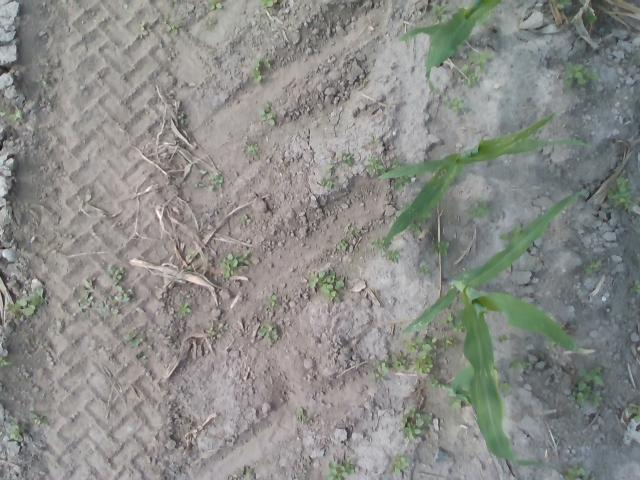Maize: (398, 188, 588, 471), (371, 111, 594, 239), (398, 0, 506, 95)
Weeds: (570, 366, 604, 407), (406, 336, 437, 376), (308, 270, 345, 303), (7, 287, 47, 317), (398, 406, 432, 440), (606, 176, 640, 210), (562, 60, 600, 88), (220, 253, 250, 278), (440, 308, 468, 333), (323, 460, 354, 480), (407, 212, 432, 236), (365, 155, 387, 180), (250, 58, 271, 83), (562, 465, 596, 480), (258, 322, 280, 344), (258, 102, 277, 126), (499, 224, 523, 243), (468, 197, 489, 218), (469, 50, 491, 70), (389, 453, 410, 473), (460, 64, 479, 86), (444, 96, 464, 115), (92, 300, 114, 316), (78, 278, 94, 300), (163, 14, 180, 34), (105, 262, 122, 282), (426, 376, 450, 390), (381, 248, 402, 264), (124, 332, 145, 348), (112, 284, 130, 302), (431, 240, 451, 256), (626, 402, 640, 424), (9, 422, 26, 440), (431, 3, 448, 21), (440, 335, 459, 351), (508, 358, 532, 370), (394, 174, 412, 190), (207, 172, 223, 190), (0, 110, 23, 122), (584, 259, 602, 274), (392, 352, 406, 371), (29, 412, 49, 425), (136, 21, 150, 38), (395, 202, 411, 216), (387, 156, 403, 170), (178, 301, 192, 317), (549, 0, 573, 9), (584, 10, 598, 25), (235, 468, 255, 478), (370, 236, 386, 248), (322, 177, 336, 190), (265, 294, 278, 308), (371, 370, 385, 383), (446, 398, 462, 409), (629, 278, 640, 294), (374, 360, 388, 372), (247, 142, 259, 156), (178, 113, 190, 125), (338, 238, 348, 252), (344, 152, 354, 166), (298, 406, 306, 423), (184, 248, 195, 260), (32, 76, 48, 84), (208, 0, 222, 9), (500, 380, 510, 392), (348, 226, 360, 236), (326, 161, 336, 173), (258, 0, 274, 7), (418, 266, 431, 274), (0, 357, 11, 366), (191, 181, 205, 188), (205, 328, 218, 335), (548, 339, 558, 348), (240, 215, 251, 223), (499, 334, 509, 342), (196, 168, 207, 175), (139, 354, 147, 360), (634, 227, 640, 234), (636, 253, 640, 261), (170, 0, 180, 3)
